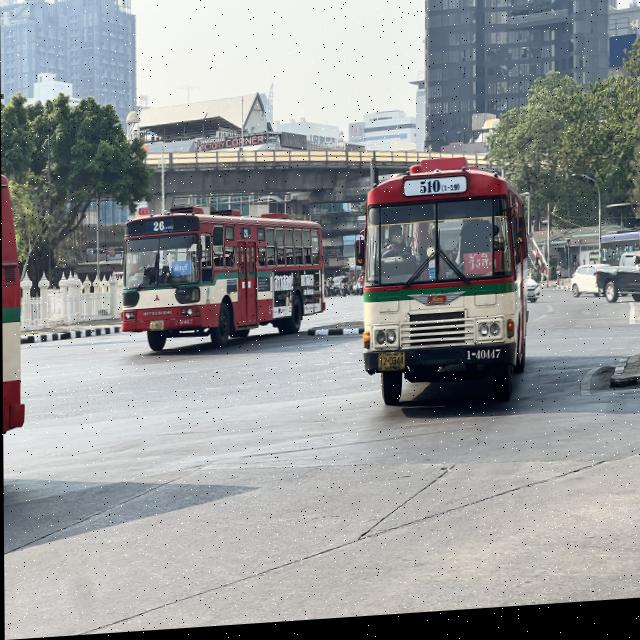BMTA-bus: (360, 163, 529, 413), (120, 210, 326, 357), (1, 173, 22, 435)
Bus Line Number: (415, 179, 463, 201), (148, 219, 174, 235)
Bus Side Number: (464, 353, 505, 368), (172, 320, 194, 330)
Destination Sign: (464, 255, 503, 282), (171, 263, 190, 279)
